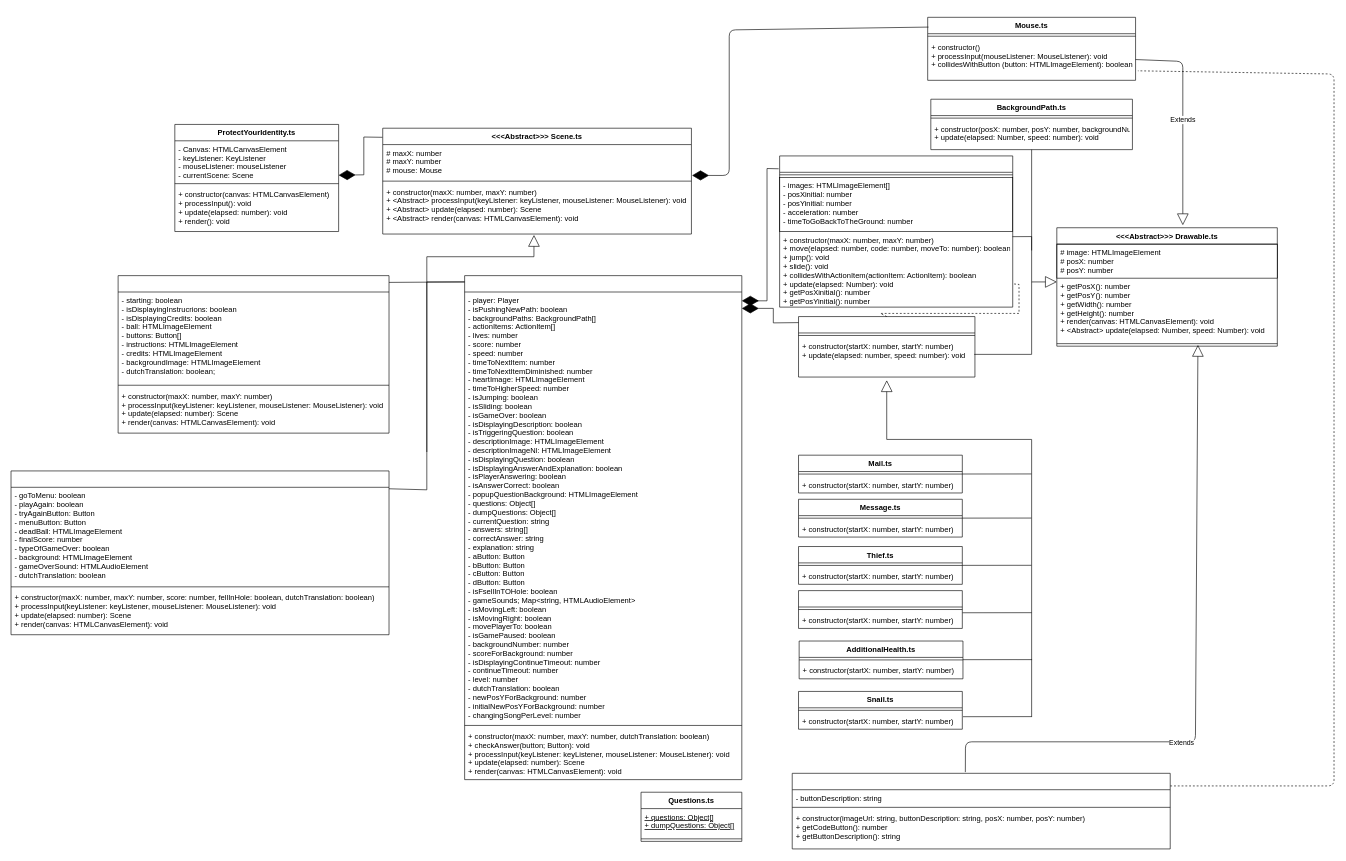
The diagram is 1346 pixels wide and 861 high, and some of its shapes have lost their labels. Here are the shapes that lost their labels. From the top down, the box of each, then its label:
(779, 155, 1013, 307): Player.ts
(117, 275, 389, 433): IntroScene.ts
(798, 316, 975, 377): ActionItem.ts
(464, 275, 742, 780): GameScene.ts
(10, 470, 389, 635): EndScene.ts
(798, 590, 962, 628): Hole.ts
(792, 773, 1170, 849): Button.ts
